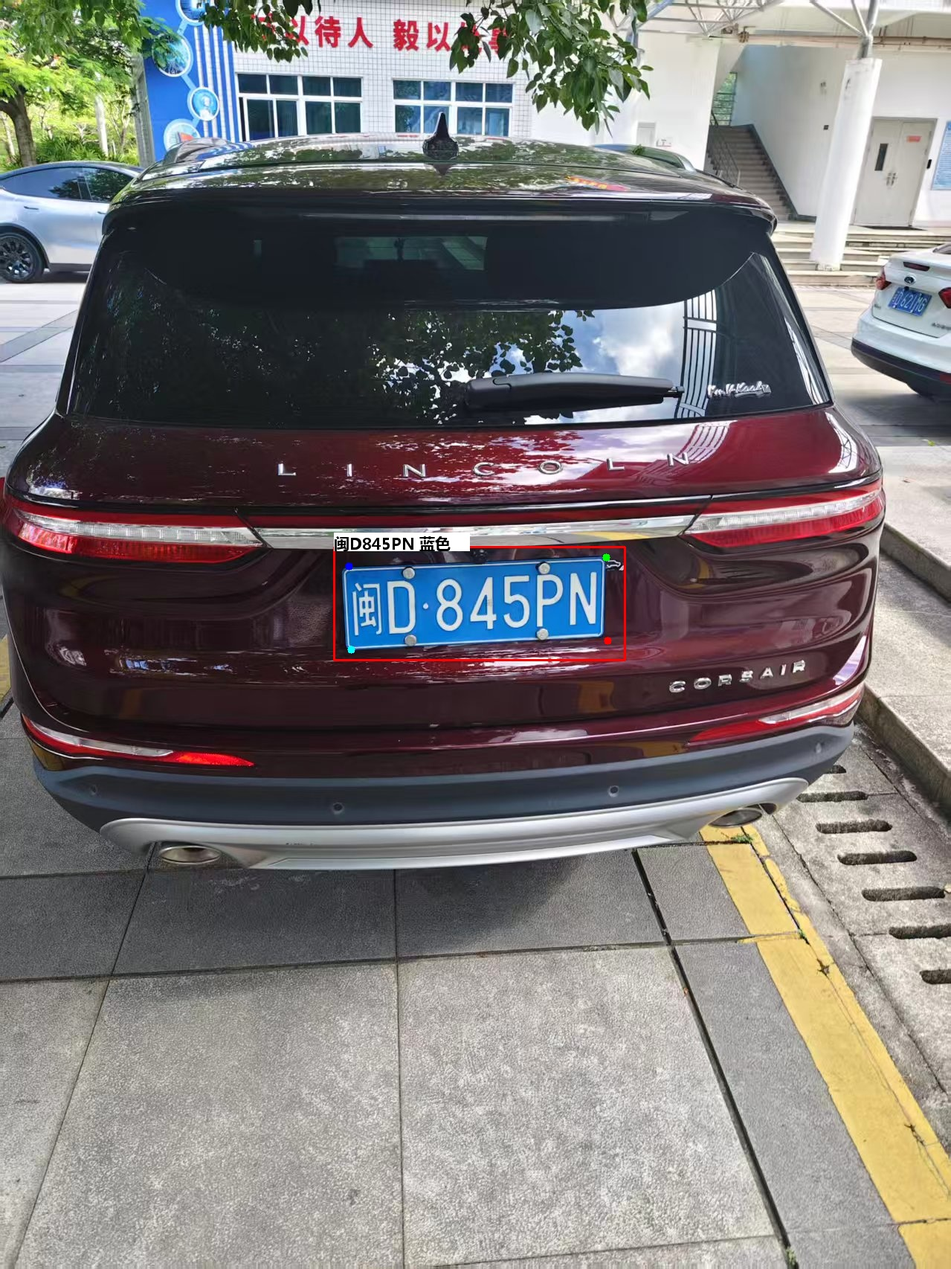plate: (341, 666, 568, 727)
